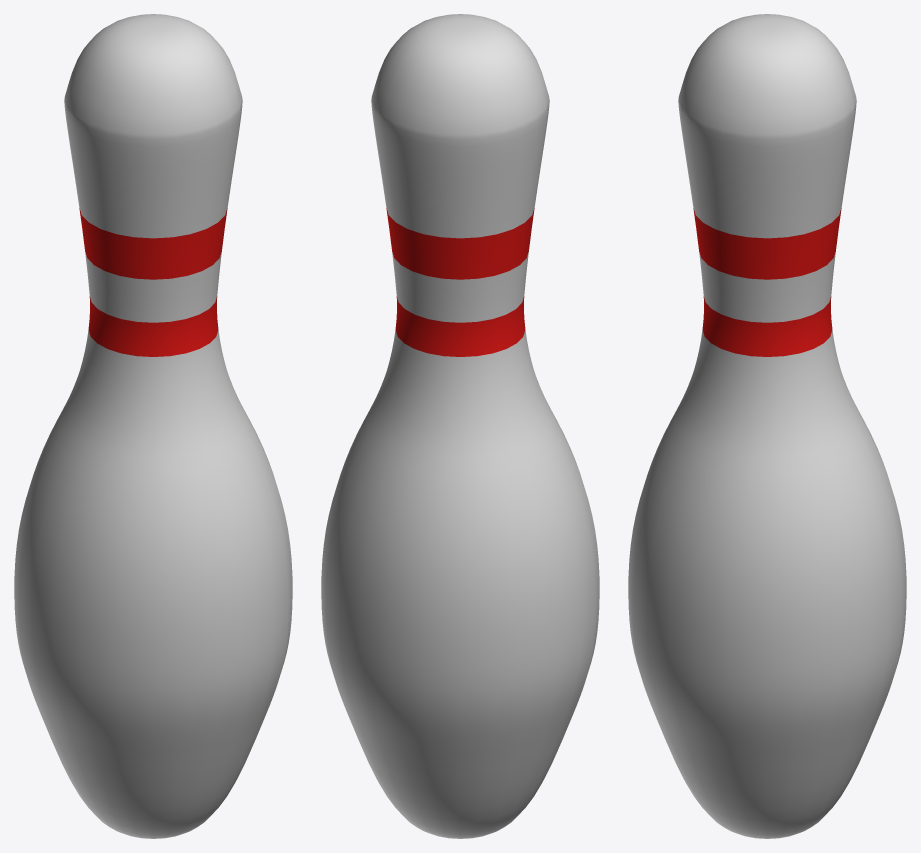
The model's file is NewBowlingPin.fbx.
3 renders of one model, left to right at view 1: azimuth 30°, elevation 25°; view 2: azimuth 150°, elevation 25°; view 3: azimuth 270°, elevation 25°, orthographic.
Visible parts, largest first — view 1: BowlingPin; view 2: BowlingPin; view 3: BowlingPin.
Boxes of the visible parts, box(x1,y1,x2,y2) form: BowlingPin: box(14, 14, 292, 838); BowlingPin: box(321, 14, 599, 838); BowlingPin: box(628, 14, 906, 838).
Bounding box in the file's own units: 11.99 × 38.01 × 11.99.
